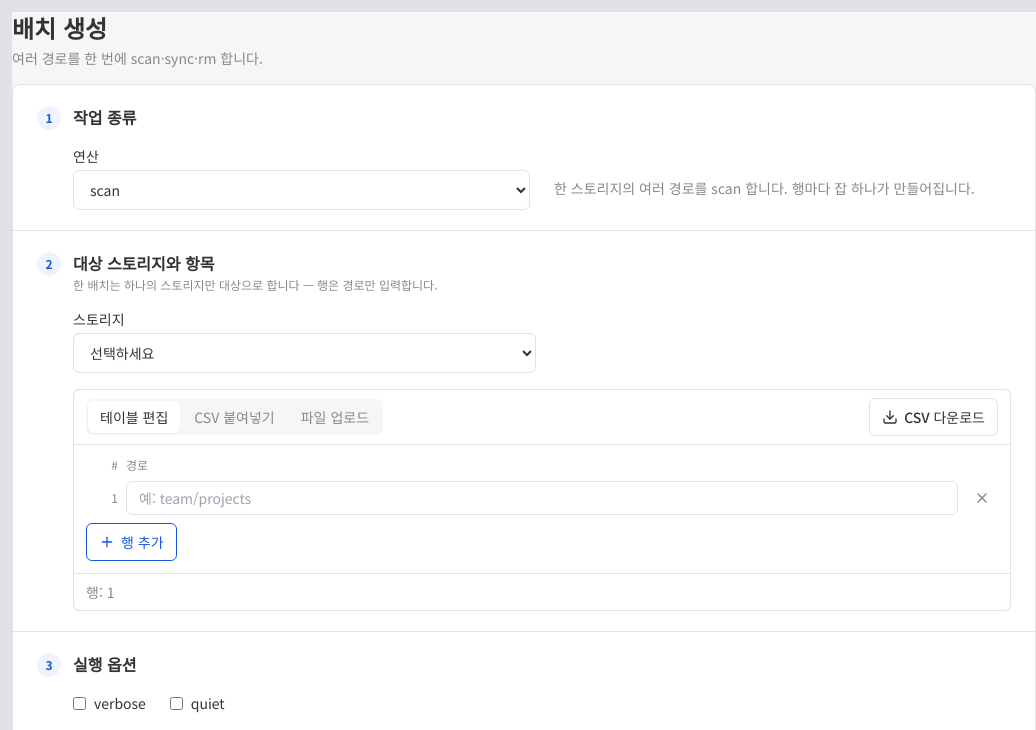
입력 방식 세그먼트는 눌린 상태(aria-pressed)를 말한다
Expected: the dropdown labelled "스토리지" is shown, 73,333 -> 536,373
Click the button "CSV 붙여넣기" at (234, 417), box 182,401 -> 287,433
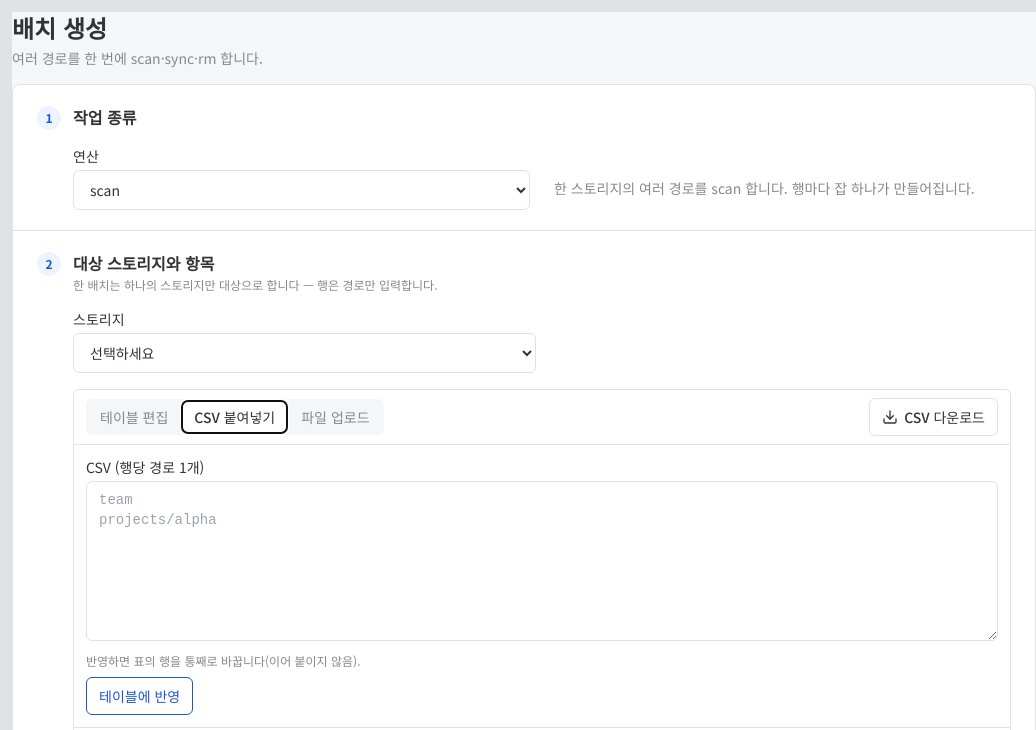
Expected: the text box labelled "CSV" is shown, 86,481 -> 998,641
